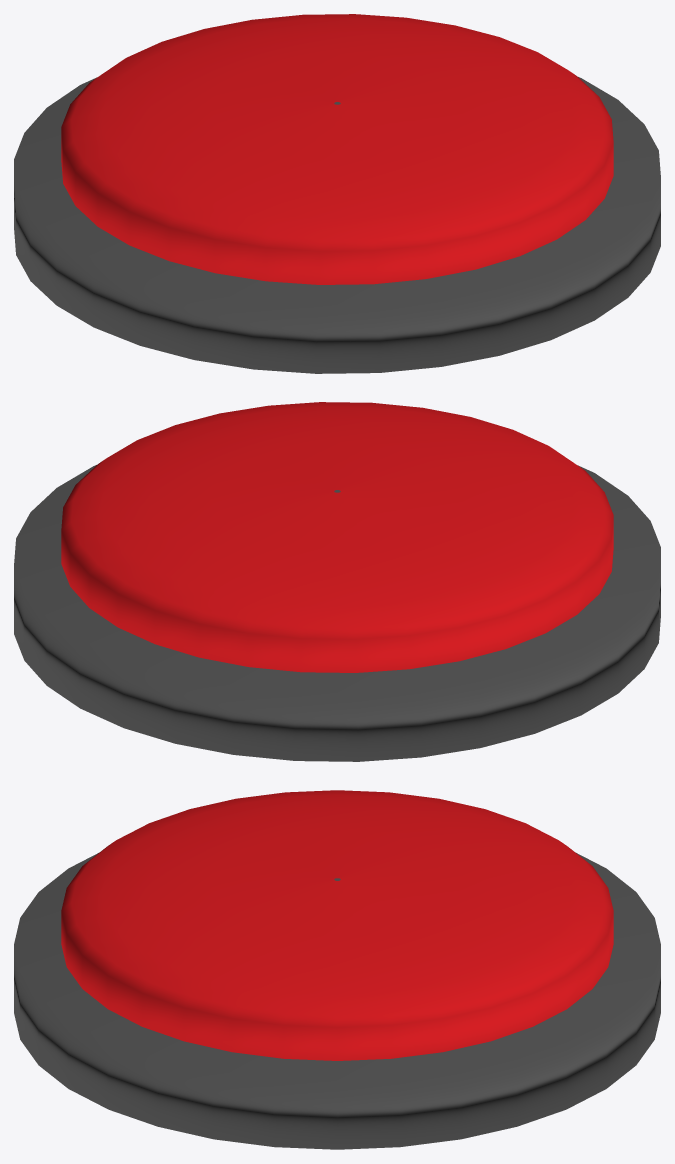
Rendered from btn.fbx.
The picture shows the model from 3 angles, top to bottom: view 1: azimuth 30°, elevation 25°; view 2: azimuth 150°, elevation 25°; view 3: azimuth 270°, elevation 25°; orthographic projection.
Parts seen in each view (by area): view 1: Cylinder; view 2: Cylinder; view 3: Cylinder.
Part boxes in pixels (bbox=[...]): Cylinder: bbox=[14, 14, 660, 373]; Cylinder: bbox=[14, 402, 660, 761]; Cylinder: bbox=[14, 790, 660, 1149].
Size of the model in its own units: 102 by 23.24 by 102.
